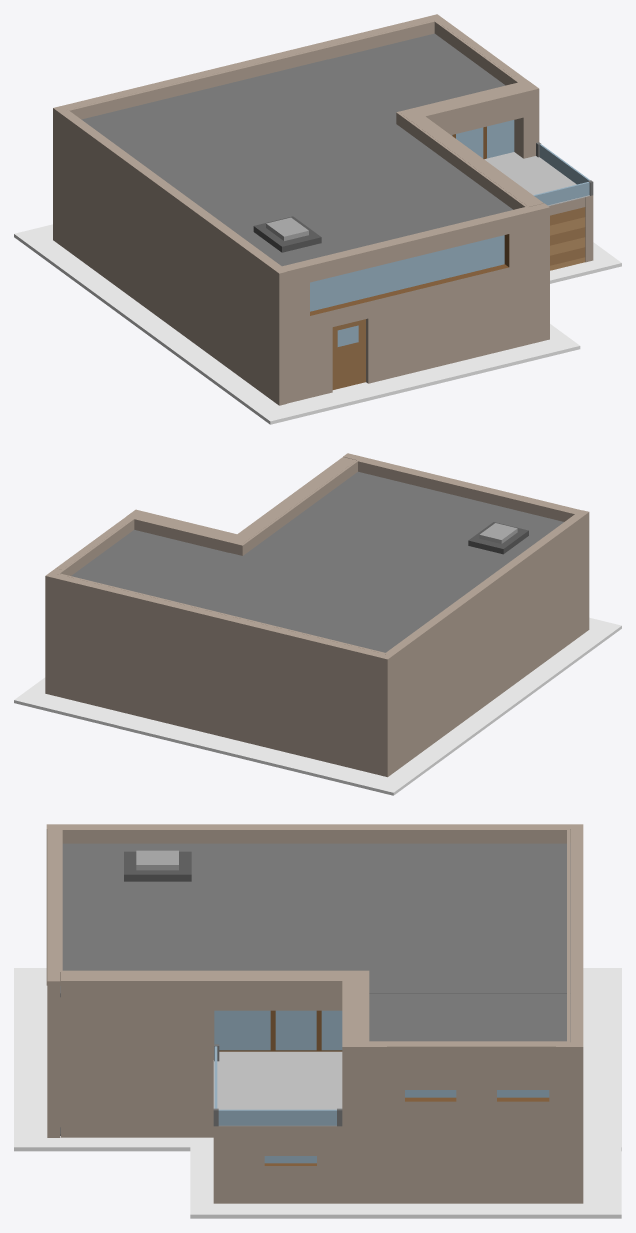
The model's file is house.obj.
3 renders of one model, top to bottom at view 1: azimuth 30°, elevation 25°; view 2: azimuth 150°, elevation 25°; view 3: azimuth 270°, elevation 25°, orthographic. The views are drawn at different scales.
Visible parts, largest first — view 1: polySurface145; view 2: polySurface145; view 3: polySurface145.
Boxes of the visible parts, bbox=[...] form: polySurface145: bbox=[14, 14, 621, 424]; polySurface145: bbox=[14, 453, 621, 795]; polySurface145: bbox=[14, 824, 621, 1218].
Bounding box in the file's own units: 16.97 × 5.16 × 17.68.
Materials: 14 (14 with a texture image).
